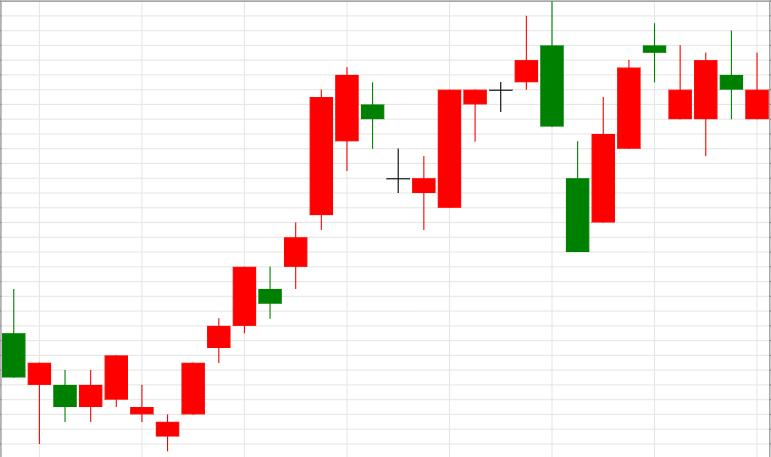bearish_engulfing_fall: (413, 2, 564, 229)
